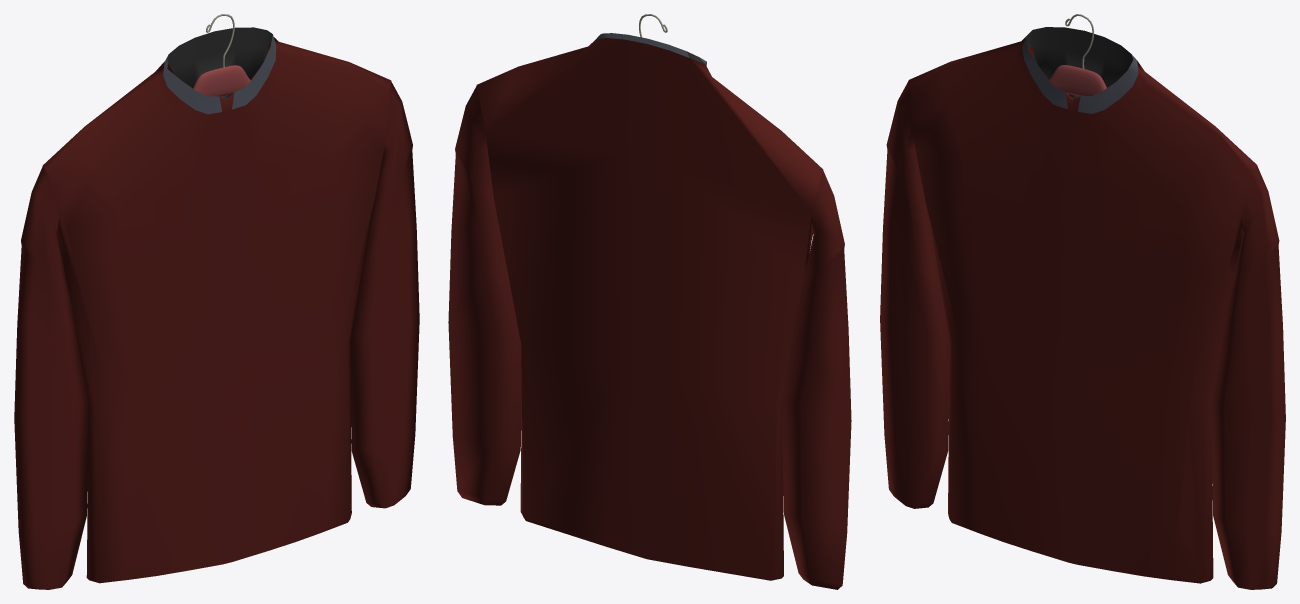
The model's file is Sueter_Rojo.fbx.
The picture shows the model from 3 angles, left to right: view 1: azimuth 30°, elevation 25°; view 2: azimuth 150°, elevation 25°; view 3: azimuth 330°, elevation 25°; orthographic projection.
Visible parts, largest first — view 1: Sueter, Gancho; view 2: Sueter; view 3: Sueter, Gancho.
Boxes of the visible parts, bbox=[...] form: Sueter: bbox=[14, 27, 419, 589]; Gancho: bbox=[193, 14, 250, 96]; Sueter: bbox=[448, 33, 851, 589]; Sueter: bbox=[880, 27, 1285, 589]; Gancho: bbox=[1049, 14, 1106, 96].
Bounding box in the file's own units: 1124 × 1441 × 65.19.
